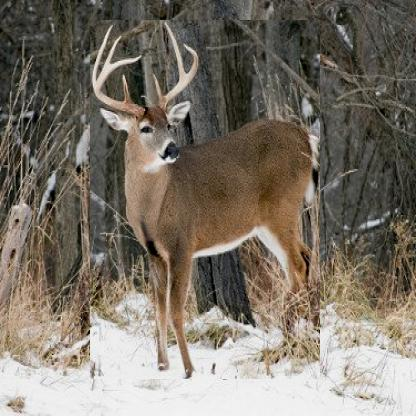Deer: (90, 20, 320, 379)
